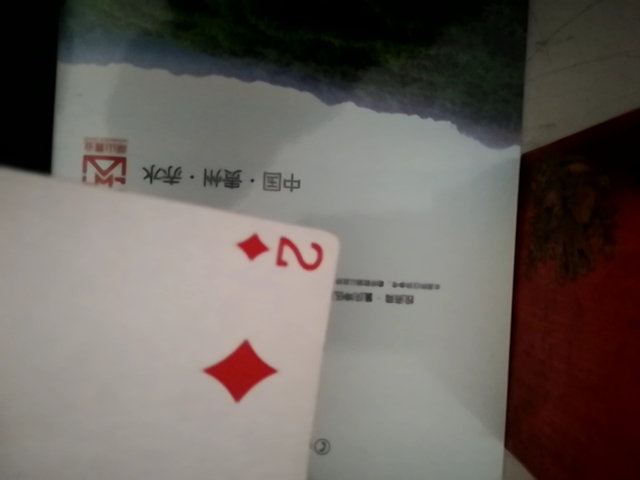fk 2: (4, 153, 353, 480)
